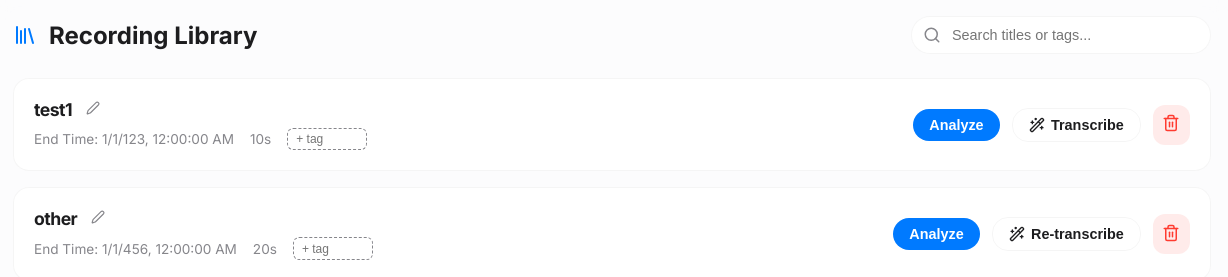
it: LibraryTab › filters recordings by search
Expected: the heading "test1" is shown, [34,99,72,120]
Type "other" into the field with placeholder "Search titles or tags..." at (1061, 35), box [911,16,1211,54]
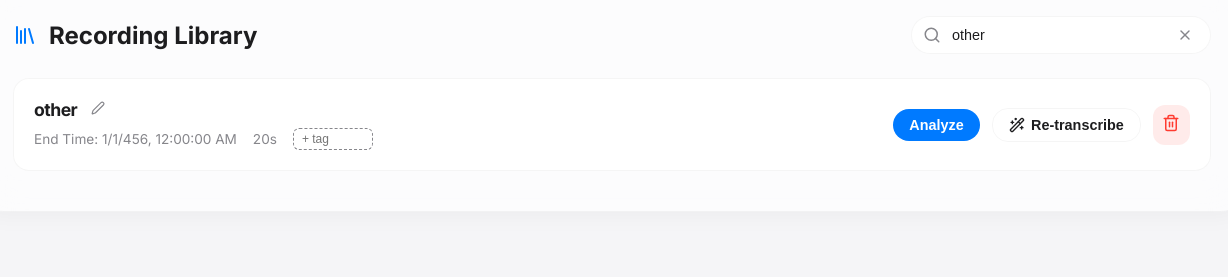
Expected: the heading "other" is shown, [34,99,77,120]
Now the heading "test1" is gone
